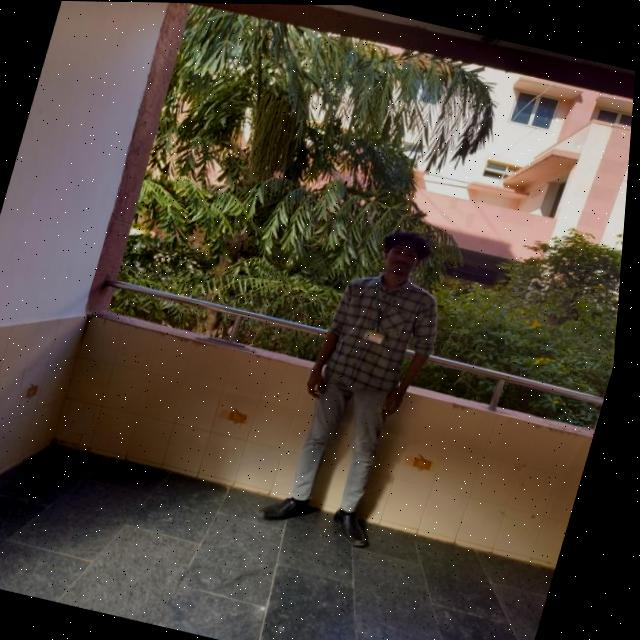id_card: (361, 278, 411, 350)
